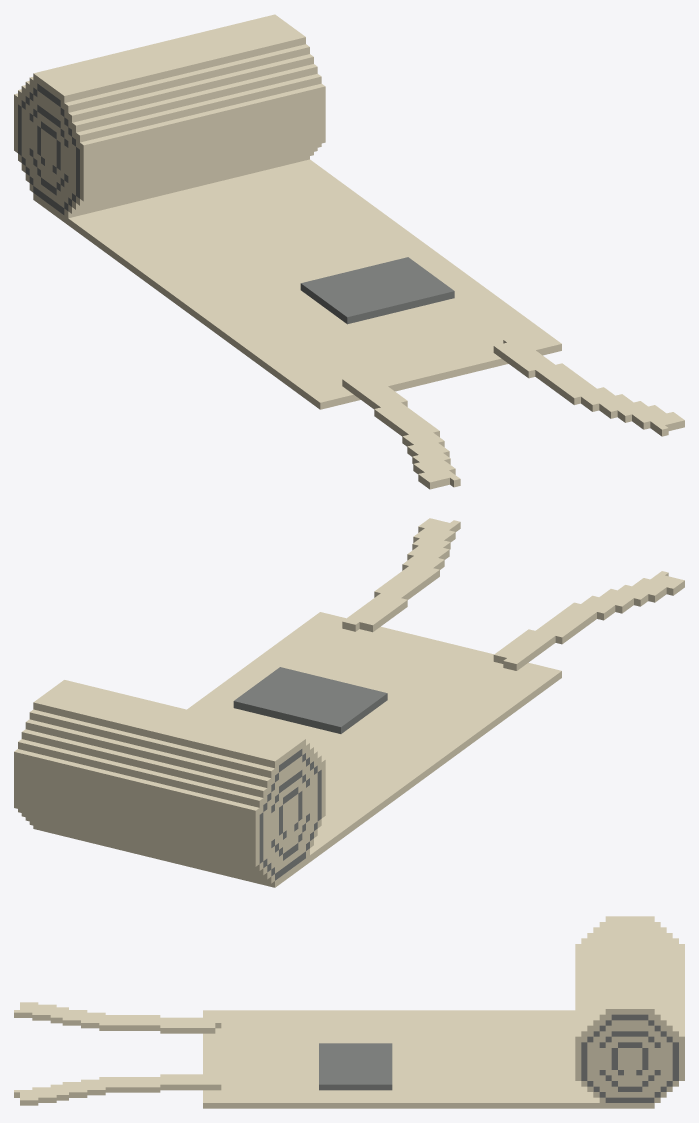
Rendered from chestwrap.glb.
3 renders of one model, top to bottom at view 1: azimuth 30°, elevation 25°; view 2: azimuth 150°, elevation 25°; view 3: azimuth 270°, elevation 25°, orthographic. The views are drawn at different scales.
Parts seen in each view (by area): view 1: chestwrap:compound; view 2: chestwrap:compound; view 3: chestwrap:compound.
Part boxes in pixels (<box>): chestwrap:compound: <box>14,14,684,489</box>; chestwrap:compound: <box>14,518,684,887</box>; chestwrap:compound: <box>14,916,684,1108</box>.
Bounding box in the file's own units: 0.152 × 0.072 × 0.44.
